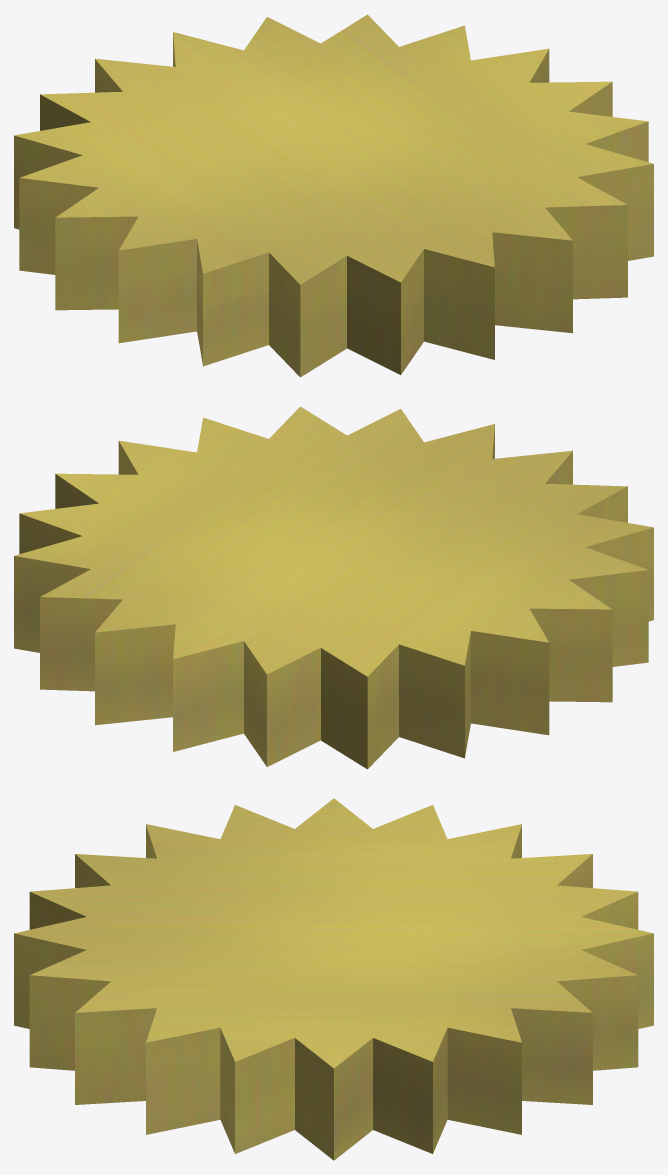
Rendered from ClockStraight5Spoke020.fbx.
The picture shows the model from 3 angles, top to bottom: view 1: azimuth 30°, elevation 25°; view 2: azimuth 150°, elevation 25°; view 3: azimuth 270°, elevation 25°; orthographic projection.
Parts seen in each view (by area): view 1: ClockStraight5Spoke020; view 2: ClockStraight5Spoke020; view 3: ClockStraight5Spoke020.
Part boxes in pixels (<box>): ClockStraight5Spoke020: <box>14,14,653,377</box>; ClockStraight5Spoke020: <box>14,406,653,769</box>; ClockStraight5Spoke020: <box>14,798,653,1160</box>.
Size of the model in its own units: 124 by 19.69 by 124.
